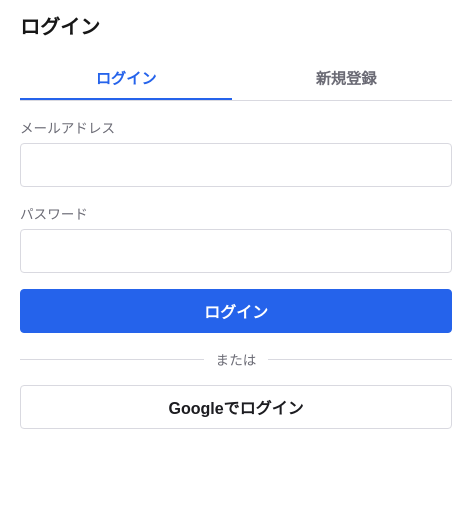
it: LoginForm › 新規登録 › session がない場合は確認メール案内を role=status で表示し、遷移しない
Click the tab "新規登録": (346, 78) x1=240 y1=56 x2=452 y2=100
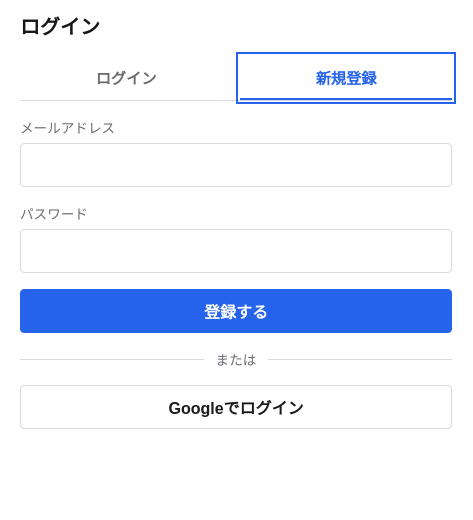
In the field labelled "メールアドレス": (236, 165) x1=20 y1=143 x2=452 y2=187, type "taro@example.com"
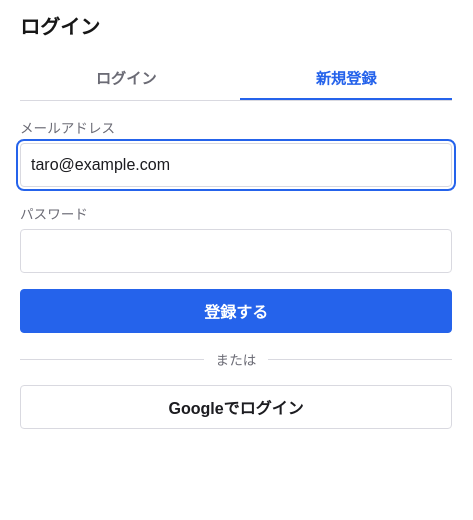
In the password field labelled "パスワード": (236, 251) x1=20 y1=229 x2=452 y2=273, type "password123"
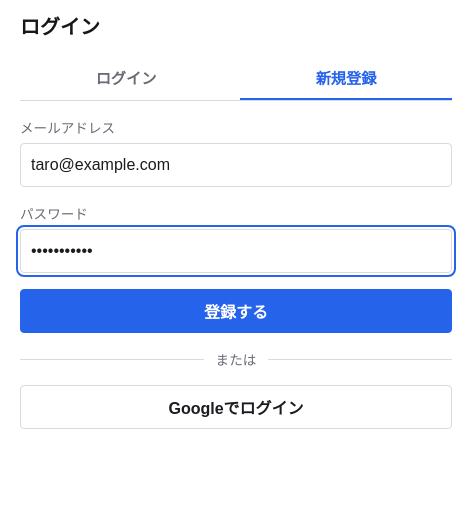
Click the button "登録する": (236, 311) x1=20 y1=289 x2=452 y2=333
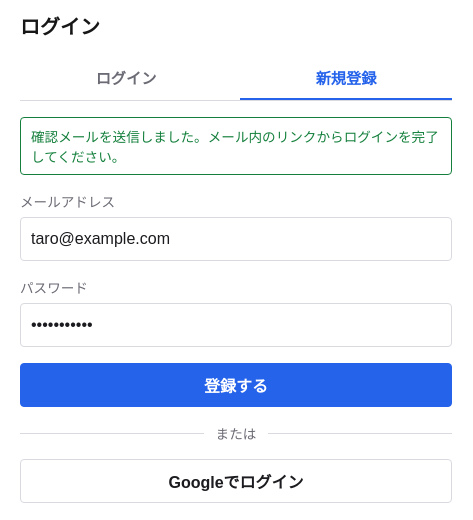
Expected: the message reads "確認メールを送信しました。メール内のリンクからログインを完了してください。", x1=31 y1=127 x2=439 y2=166
